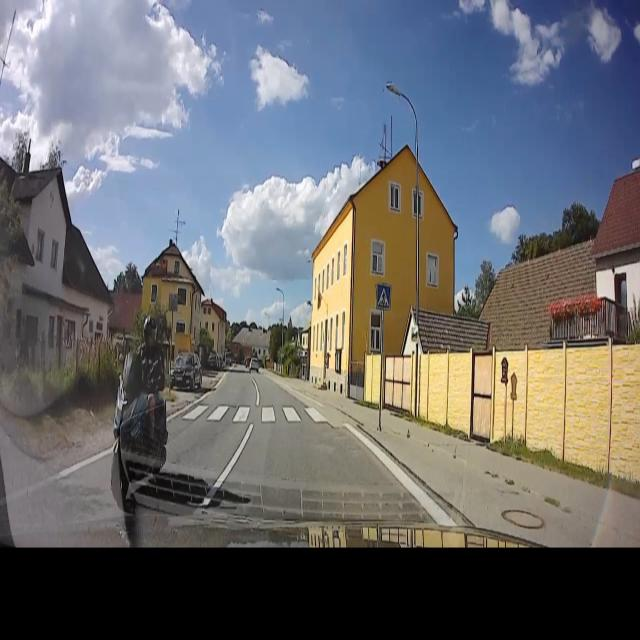Pedestrian crosswalk: (179, 391, 341, 430), (376, 281, 392, 312)
